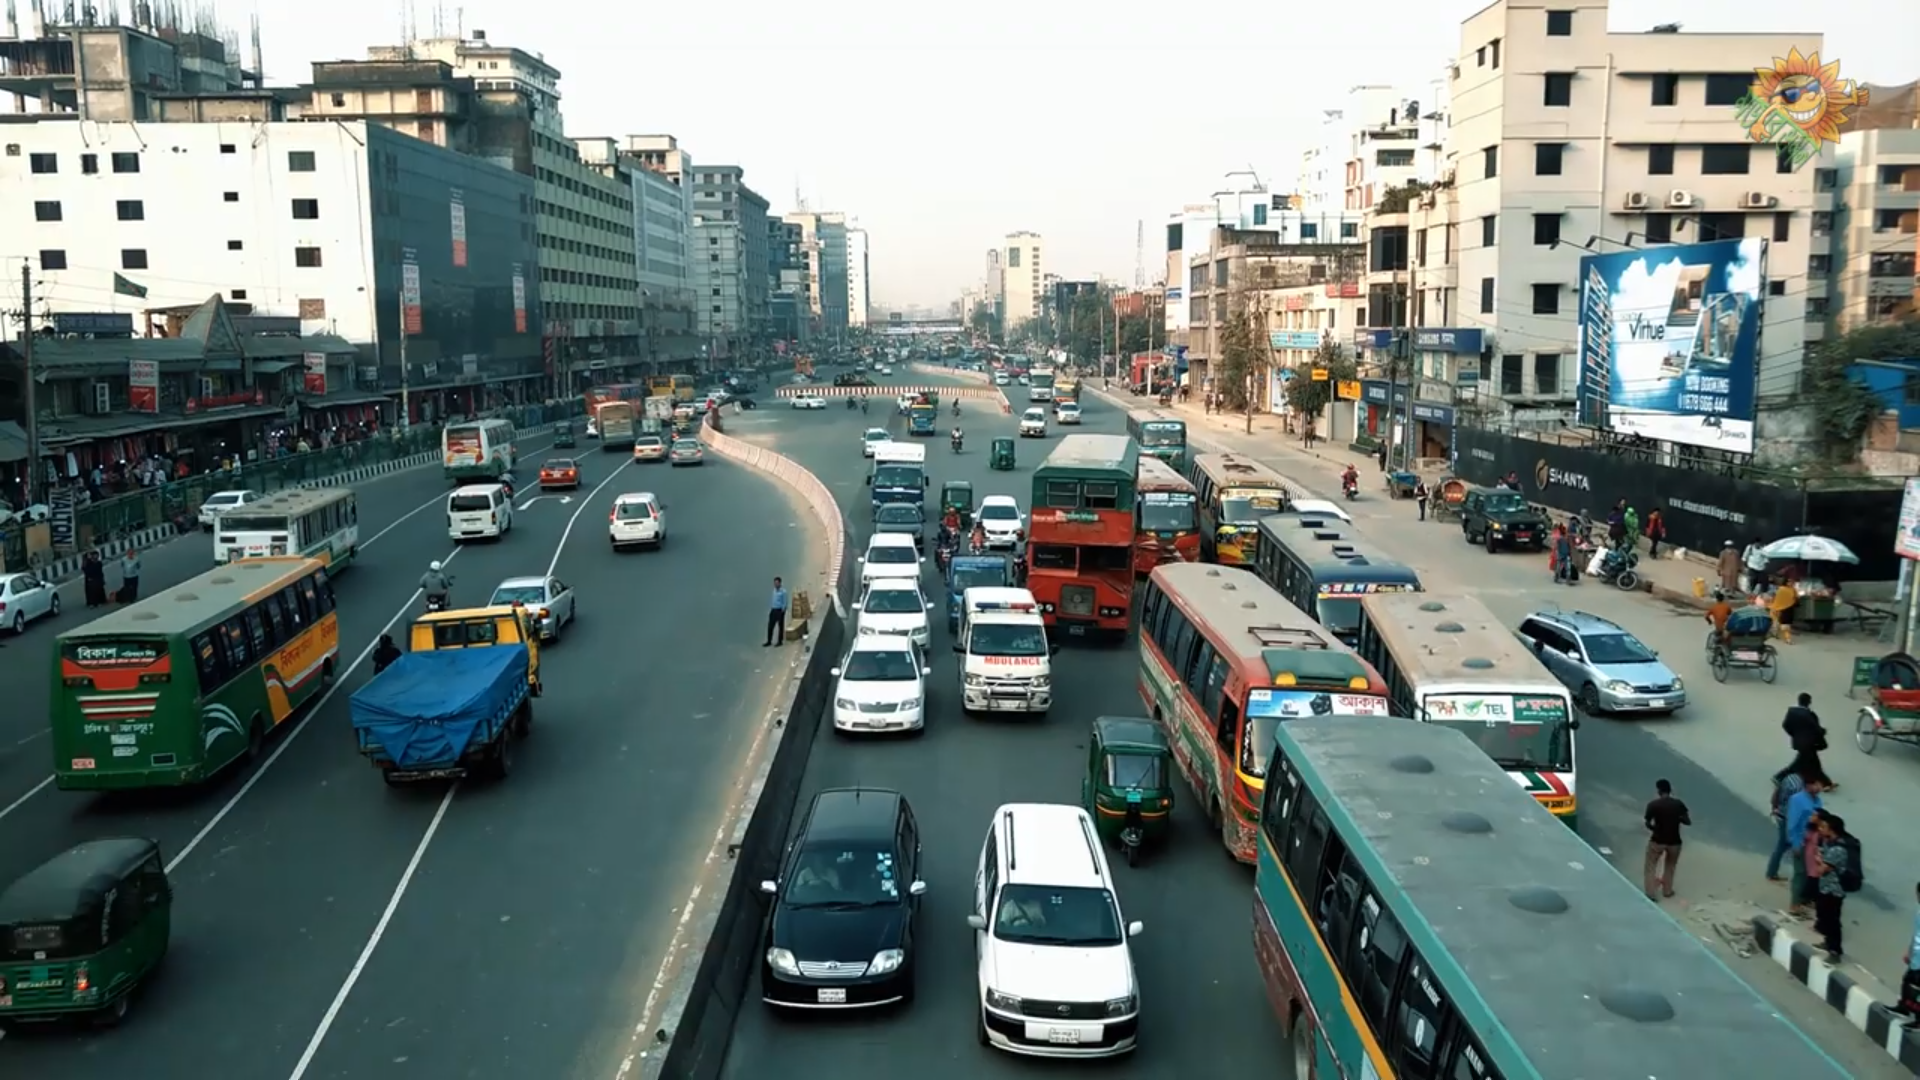HeavyVehicle: (1273, 715, 1870, 1080), (49, 555, 342, 814), (1139, 562, 1254, 880), (353, 604, 545, 794), (1360, 597, 1586, 723), (1029, 419, 1135, 649), (1251, 513, 1424, 593), (435, 417, 524, 487), (597, 401, 633, 451)
LightVehicle: (968, 808, 1149, 1069), (762, 781, 923, 1026), (957, 585, 1051, 731), (836, 632, 926, 745), (599, 487, 665, 556)
MotorCycle: (423, 559, 454, 611), (1338, 462, 1361, 500), (951, 426, 969, 455)
